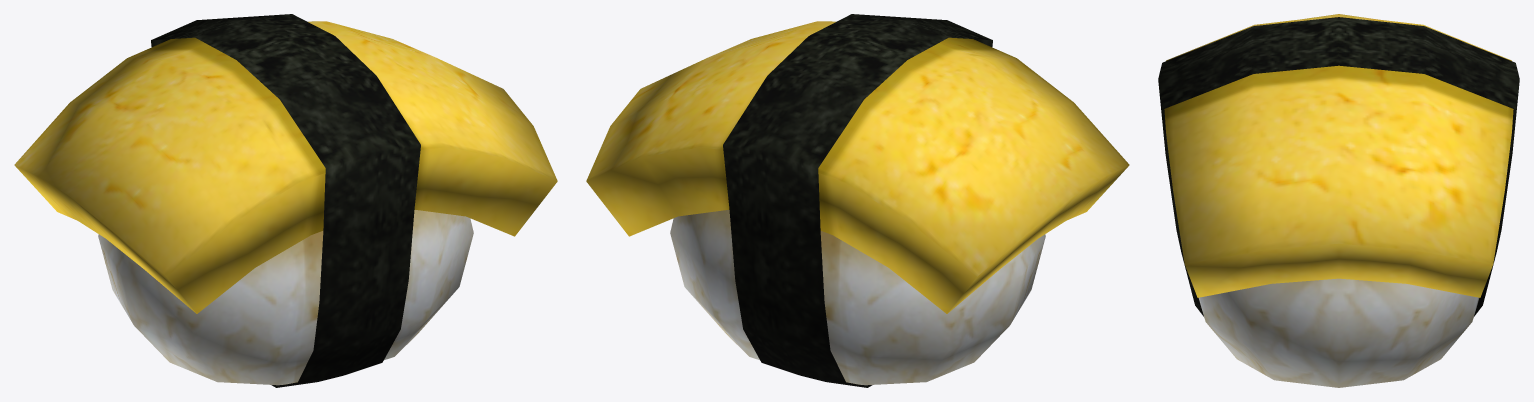
Rendered from tamago.fbx.
The picture shows the model from 3 angles, left to right: view 1: azimuth 30°, elevation 25°; view 2: azimuth 150°, elevation 25°; view 3: azimuth 270°, elevation 25°; orthographic projection.
Parts seen in each view (by area): view 1: tamago; view 2: tamago; view 3: tamago.
Part boxes in pixels (<box>): tamago: <box>14,14,557,387</box>; tamago: <box>586,14,1129,387</box>; tamago: <box>1158,14,1519,387</box>.
Size of the model in its own units: 1.96 by 1.38 by 1.39.
